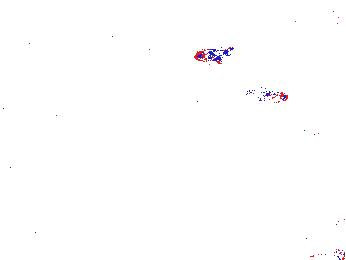X-ray fish: (173, 124, 210, 155)
red belly glassfish: (245, 86, 290, 106), (194, 44, 232, 64), (307, 124, 329, 142)
redtail glassfish: (287, 8, 346, 33)
